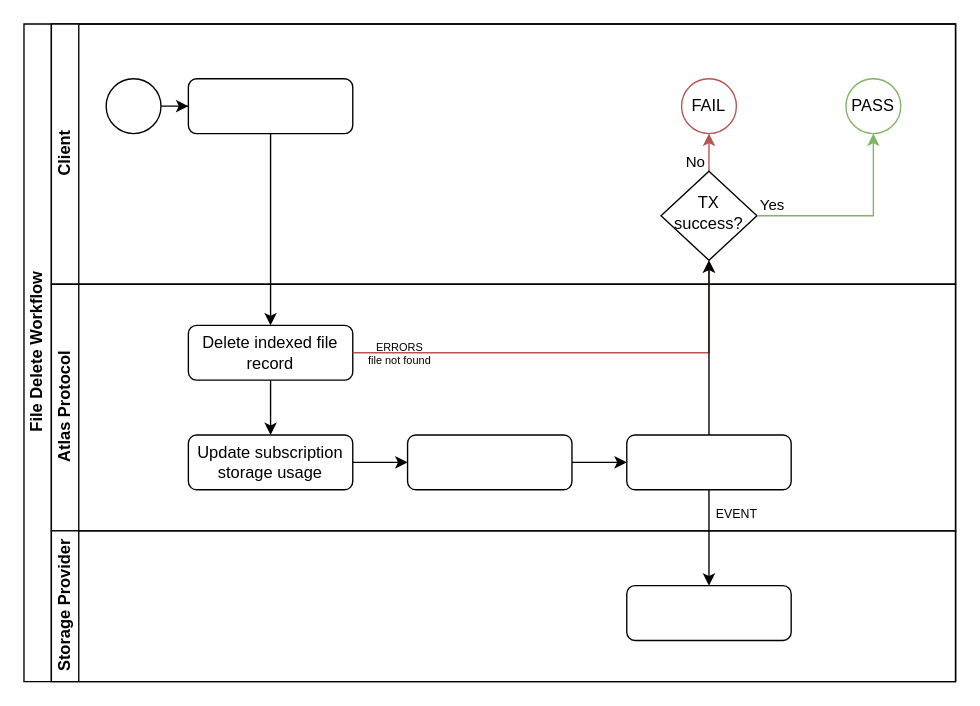
The diagram is 980 pixels wide and 706 high, and some of its shapes have lost their labels. Each missing label, with the centre of its shape:
Broadcast MsgPostFile: point 270,105
Clear active challenges for the file: point 708,462
Delete file from local storage & cache: point 708,612
START: point 133,105
Update provider storage usage & credit delta: point 489,462
